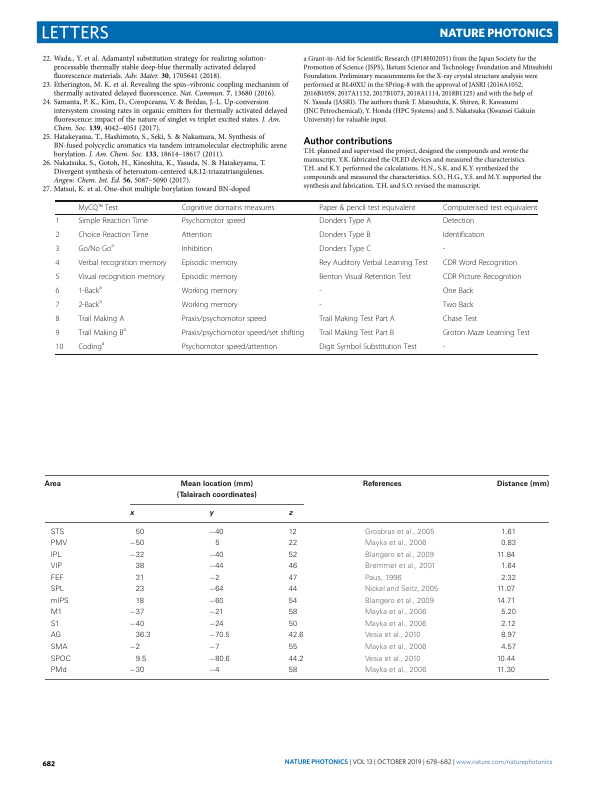borderless: (44, 474, 549, 679), (55, 199, 538, 354)
cell: (176, 480, 258, 500), (181, 328, 305, 338), (318, 258, 429, 268), (318, 342, 418, 352), (181, 342, 278, 352), (318, 272, 412, 282), (77, 258, 167, 268), (77, 272, 166, 282), (442, 328, 531, 338), (318, 203, 416, 212), (442, 203, 538, 212), (181, 314, 267, 324), (181, 203, 275, 212), (442, 272, 523, 282), (318, 314, 396, 324), (318, 328, 395, 338), (442, 258, 518, 268), (77, 216, 149, 226), (77, 230, 149, 240), (364, 585, 439, 594), (181, 216, 246, 226), (364, 563, 436, 572), (364, 528, 435, 537), (364, 551, 435, 560), (364, 597, 435, 606), (77, 326, 127, 338), (181, 286, 239, 296), (181, 300, 239, 310), (181, 258, 238, 268), (181, 272, 238, 282), (364, 620, 427, 629), (364, 643, 427, 652), (364, 666, 427, 675), (318, 216, 372, 226), (318, 244, 372, 254), (318, 230, 371, 240), (364, 632, 421, 641), (364, 655, 421, 664), (364, 540, 427, 548), (364, 609, 427, 617), (77, 314, 125, 324), (77, 242, 115, 254), (496, 480, 550, 488), (442, 230, 485, 240), (77, 203, 119, 212), (442, 314, 478, 324), (364, 574, 403, 583), (77, 340, 105, 352), (442, 216, 475, 226), (362, 480, 403, 488), (181, 230, 213, 240), (181, 244, 213, 254), (442, 286, 474, 296), (442, 300, 474, 310), (77, 284, 103, 296), (77, 298, 103, 310), (208, 632, 231, 641), (208, 655, 231, 664), (50, 655, 72, 664), (496, 551, 516, 560), (496, 585, 516, 594), (50, 597, 70, 606), (496, 597, 516, 606), (496, 655, 516, 664), (496, 666, 516, 675), (50, 643, 68, 652), (50, 666, 68, 675), (208, 528, 225, 537), (500, 528, 517, 537), (208, 551, 225, 560), (208, 563, 225, 572), (500, 563, 517, 572), (500, 574, 517, 583), (208, 585, 225, 594), (208, 597, 225, 606), (208, 609, 225, 618), (208, 620, 225, 629), (500, 632, 517, 641), (500, 643, 517, 652), (43, 480, 62, 488), (50, 540, 68, 548), (129, 551, 145, 560), (129, 609, 145, 618), (129, 620, 145, 629), (500, 620, 516, 629), (135, 632, 151, 641), (288, 632, 304, 641), (288, 655, 304, 664), (129, 666, 145, 675), (500, 540, 517, 548), (500, 609, 517, 617), (50, 528, 65, 537), (50, 574, 65, 583), (50, 585, 65, 594), (129, 540, 145, 548), (50, 551, 63, 560), (50, 563, 63, 572), (50, 609, 63, 618), (208, 574, 220, 583), (50, 632, 62, 641), (129, 643, 141, 652), (208, 643, 220, 652), (135, 655, 147, 664), (208, 666, 220, 675), (135, 528, 145, 537), (288, 528, 298, 537), (288, 551, 298, 560), (135, 563, 145, 572), (288, 563, 298, 572), (135, 574, 145, 583), (288, 574, 298, 583), (135, 585, 145, 594), (288, 585, 298, 594), (135, 597, 145, 606), (288, 597, 298, 606), (288, 609, 298, 618), (50, 620, 60, 629), (288, 620, 298, 629), (288, 643, 298, 652), (288, 666, 298, 675), (55, 342, 64, 352), (288, 540, 298, 548), (54, 216, 60, 226), (54, 230, 60, 240), (54, 244, 60, 254), (55, 258, 60, 268), (55, 272, 60, 282), (55, 286, 60, 296), (318, 286, 323, 296), (55, 300, 60, 310), (318, 300, 323, 310), (55, 314, 60, 324), (55, 328, 60, 338), (214, 540, 220, 548), (129, 511, 135, 518), (208, 511, 214, 518), (442, 244, 446, 254), (442, 342, 446, 352), (288, 511, 293, 518)
